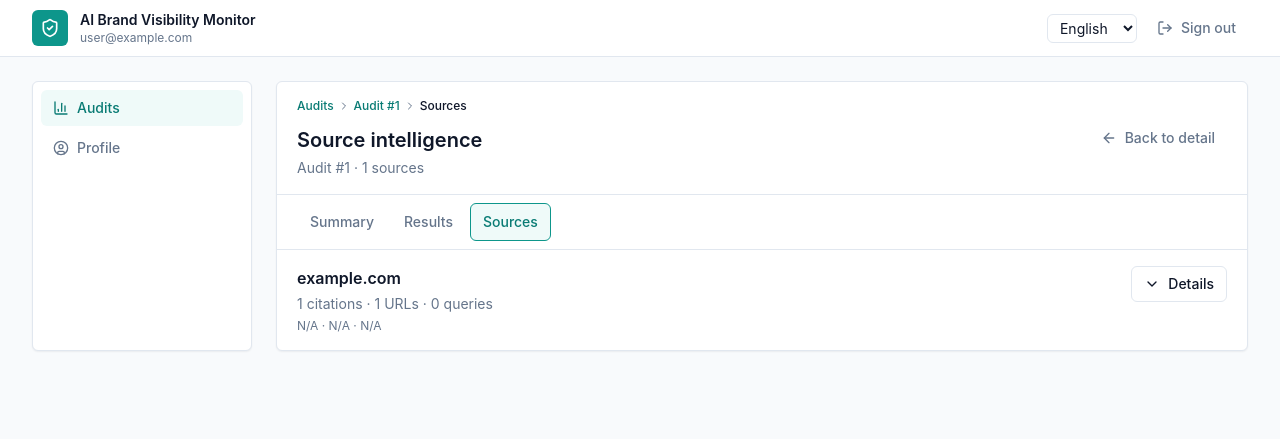
Test: audit sources page › safely renders partially missing URL evidence fields
The image size is (1280, 439).
expect the heading "example.com" is shown: met, box [297,268,401,288]
Click the button "Details" at (1179, 284), box [1131,266,1227,302]
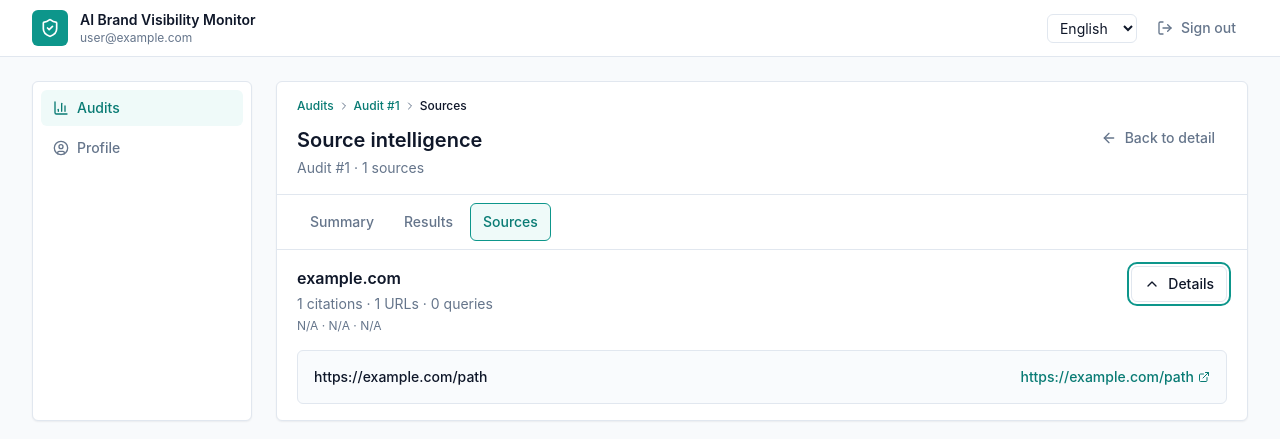
expect the text "N/A · N/A · N/A" is shown: met, box [297,318,382,333]
expect the text "https://example.com/path" is shown: met, box [314,367,488,387]
